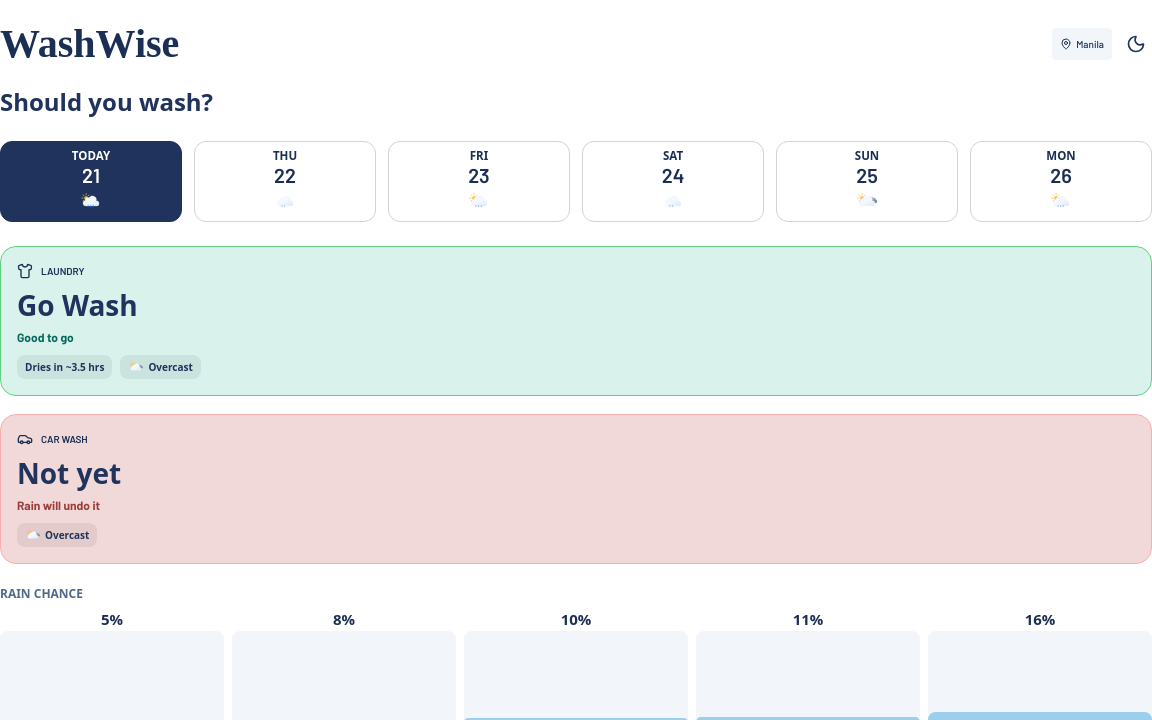
Scenario: HomePage failed updates (P4 FR-007) › when the new place fails, keeps the old forecast and its place name, and says so
The image size is (1152, 720).
Expected: the element "Laundry" is shown, [0,246,1151,396]
What coordinates should you click on to do the following:
click the button with aria-label "Update location, Manila"
I would click on:
 (1082, 44)
Its box is [1052,28,1112,60].
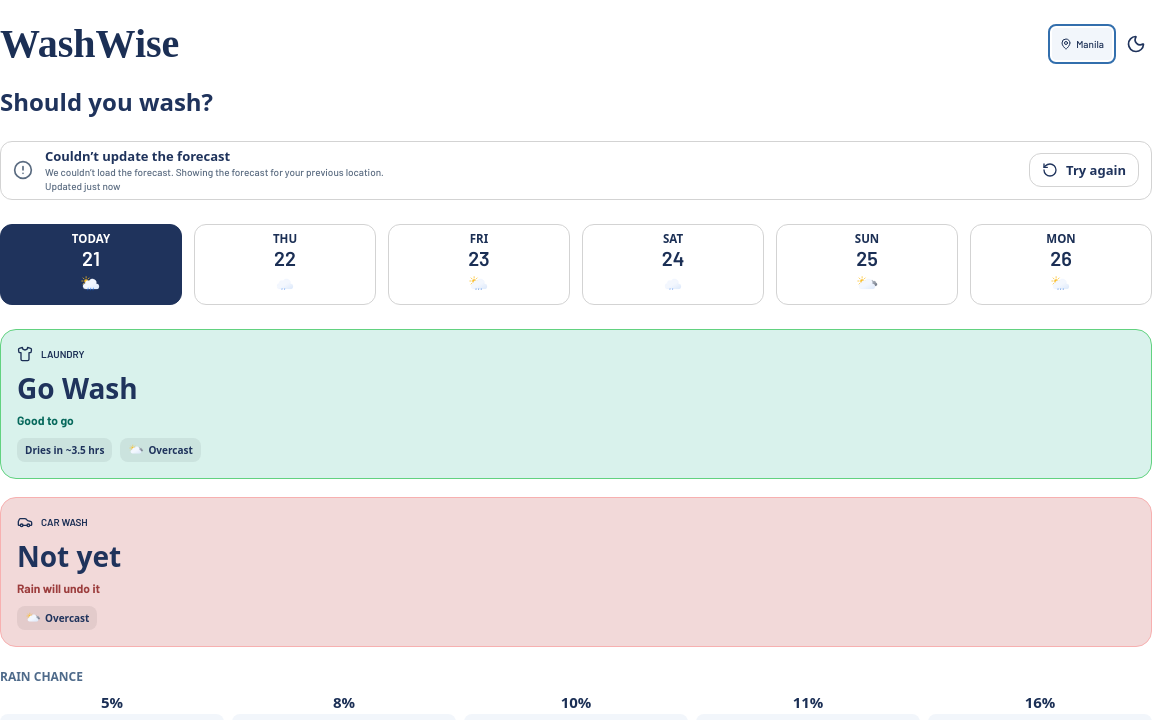
Expected: the element "Laundry" is shown, [0,329,1151,479]
Expected: the message shows "Showing the forecast for your previous location", [45,166,384,178]
